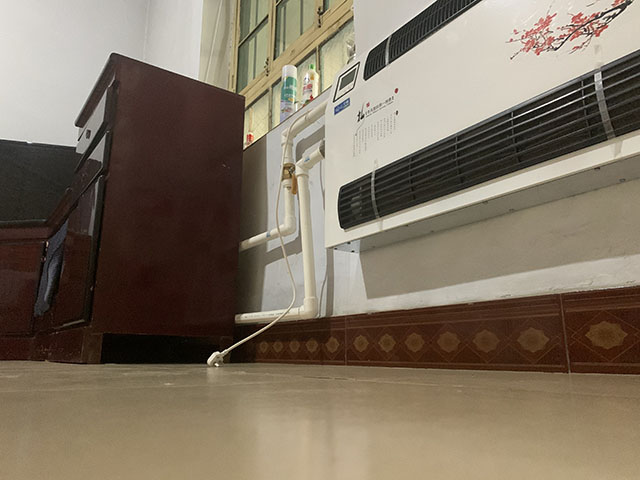cabinet: (1, 51, 247, 366)
wire: (205, 106, 313, 368)
